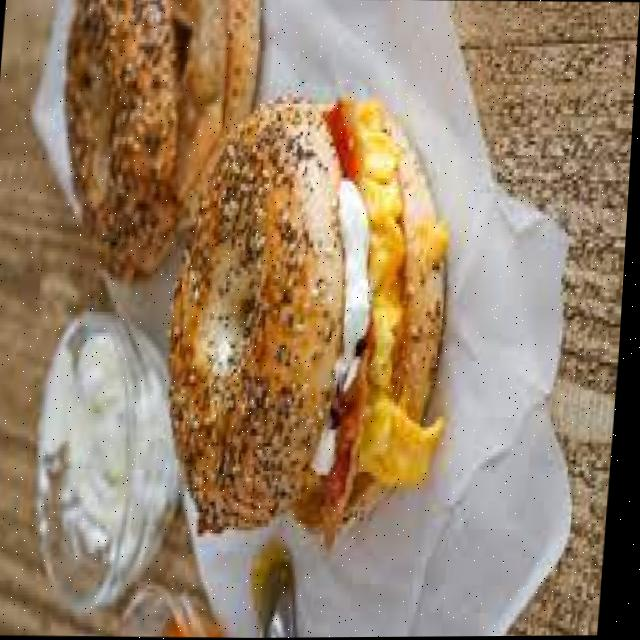Bagel: (172, 106, 345, 532), (67, 0, 195, 275)
